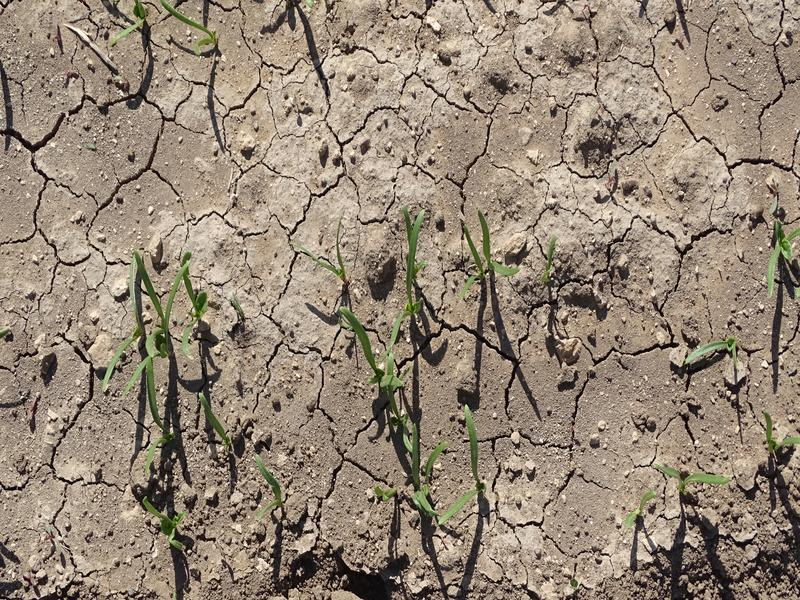Espinaca: (94, 251, 197, 431), (359, 316, 441, 511), (454, 209, 521, 291), (445, 406, 485, 515), (319, 222, 361, 325), (139, 494, 195, 553), (395, 208, 426, 307), (767, 220, 800, 301), (657, 461, 726, 491), (761, 409, 799, 457)
